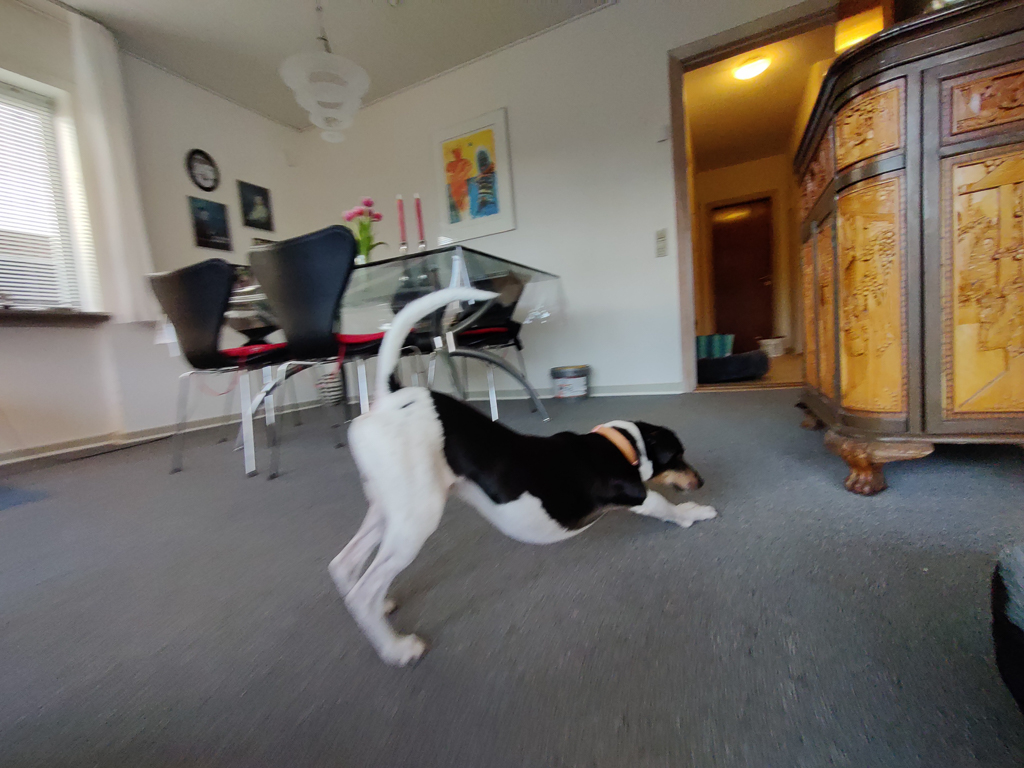Dog: (316, 280, 751, 679)
